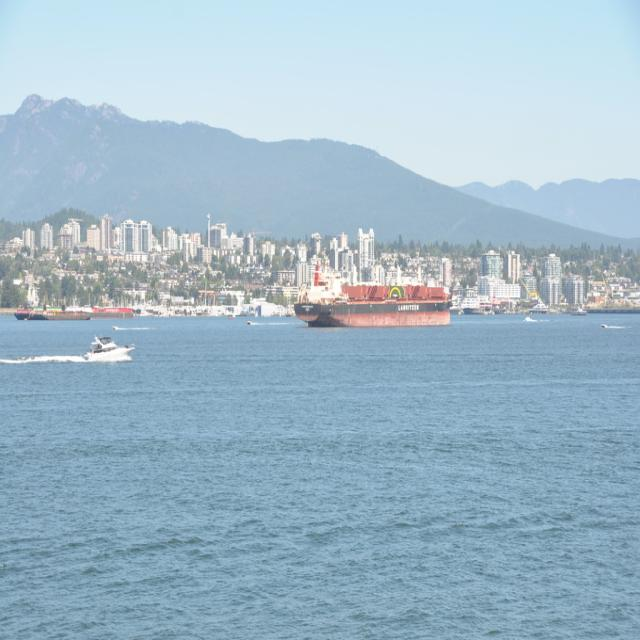Boat: (48, 278, 292, 318), (291, 278, 452, 326), (469, 296, 640, 310), (84, 331, 134, 363), (15, 279, 47, 322), (597, 321, 611, 330)
